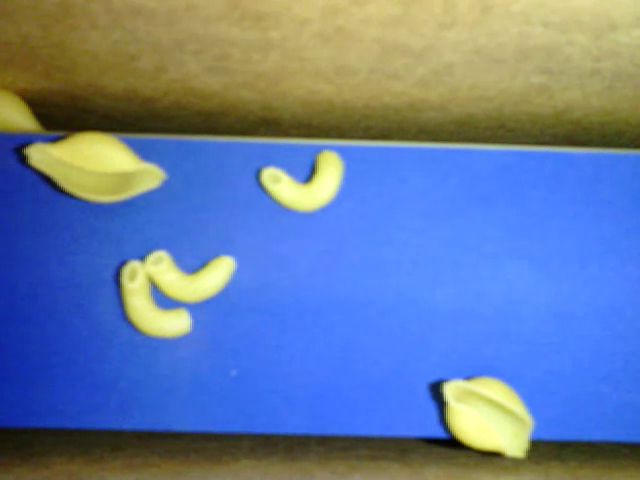elbow: (120, 256, 191, 339), (257, 148, 345, 213), (146, 248, 237, 302)
shell: (21, 130, 167, 204), (439, 372, 534, 460)
